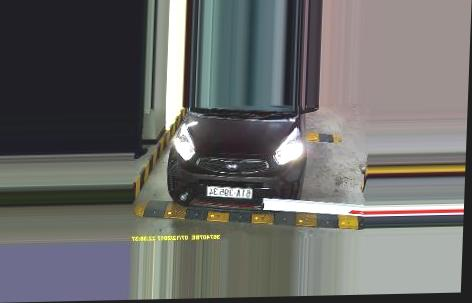License_Plate: (204, 186, 254, 198)
